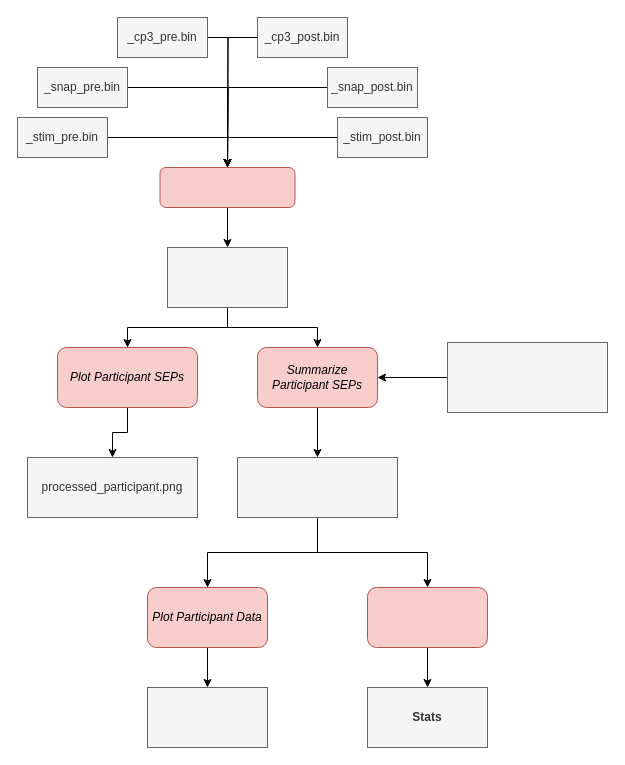
This 625x765 diagram has some shape labels left out. Each missing label, with the centre of its shape:
Behavioural Data sequence_times_pre.csv sequence_times_post.csv: the point at 527,377
cp3 snap: the point at 227,187
Figures: the point at 207,717
participants_summary.csv: the point at 317,487
Sliced Data _cp3.csv _snap.csv: the point at 227,277
Stats for Participants: the point at 427,617
